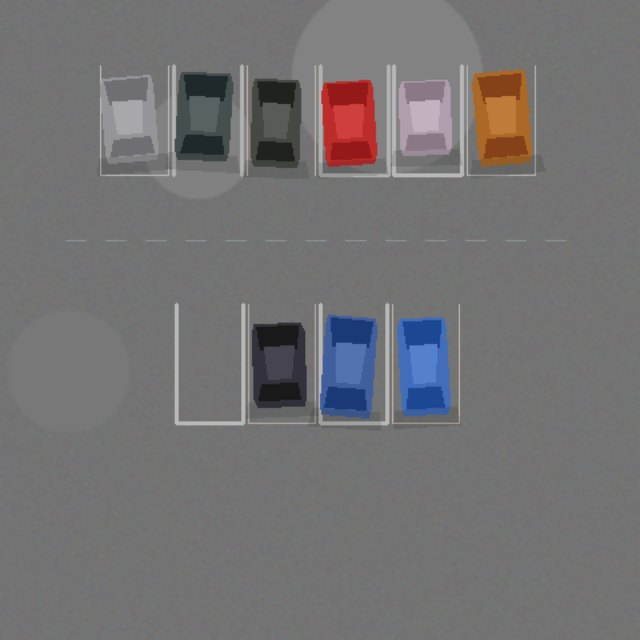space-empty: (176, 304, 243, 423)
space-occupied: (248, 304, 315, 423), (320, 304, 387, 423), (392, 304, 459, 423), (100, 65, 168, 175), (173, 65, 241, 175), (247, 65, 315, 175), (320, 65, 388, 175), (393, 65, 461, 175), (467, 65, 535, 175)
